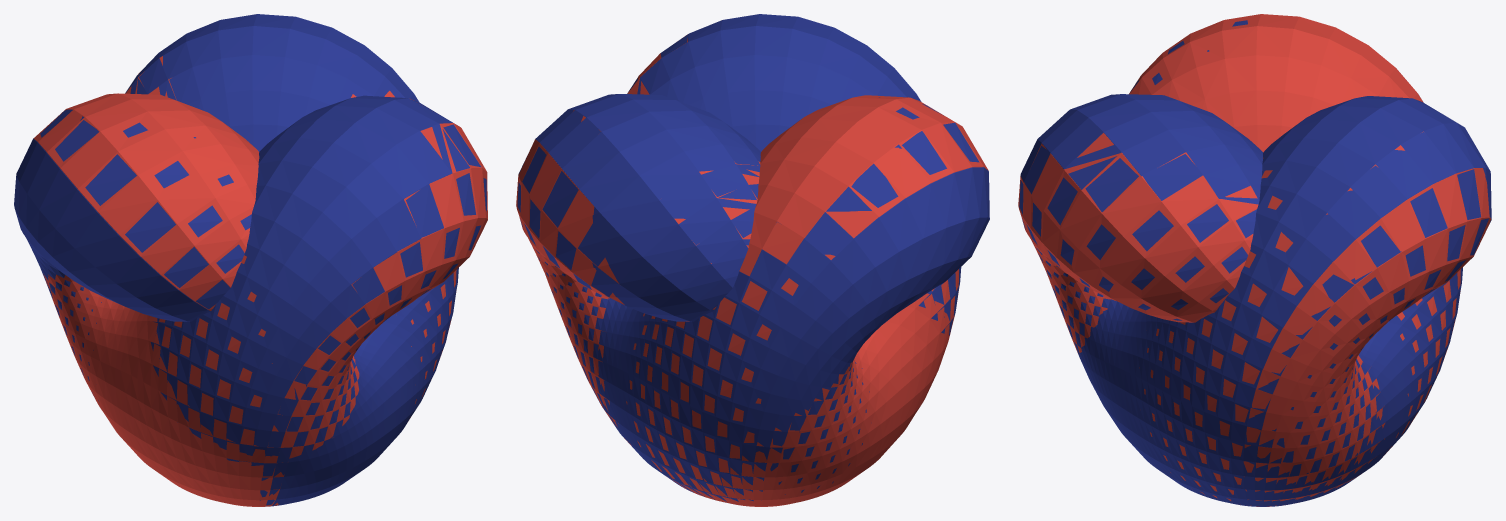
The model's file is boy.glb.
The picture shows the model from 3 angles, left to right: view 1: azimuth 30°, elevation 25°; view 2: azimuth 150°, elevation 25°; view 3: azimuth 270°, elevation 25°; orthographic projection.
Parts seen in each view (by area): view 1: z-fighting; view 2: z-fighting; view 3: z-fighting.
Boxes of the visible parts, box(x1,y1,x2,y2) form: z-fighting: box(14, 14, 487, 506); z-fighting: box(516, 14, 989, 506); z-fighting: box(1018, 14, 1491, 506).
Bounding box in the file's own units: 0.3219 × 0.3031 × 0.319.
